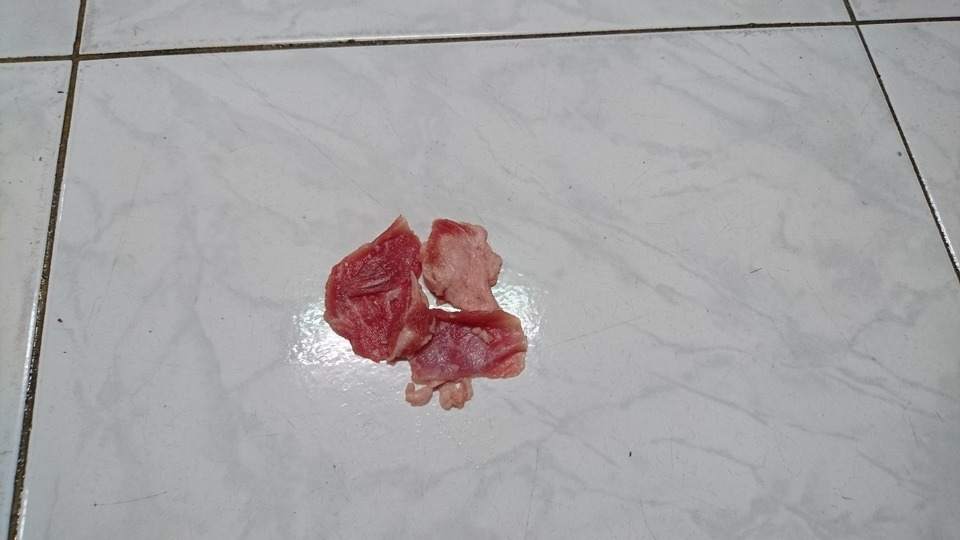restructured meat: (323, 209, 532, 411)
